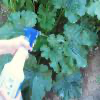Squash Powdery mildew leaf: (42, 34, 75, 75), (52, 0, 86, 26), (6, 10, 36, 29), (62, 21, 75, 39)
